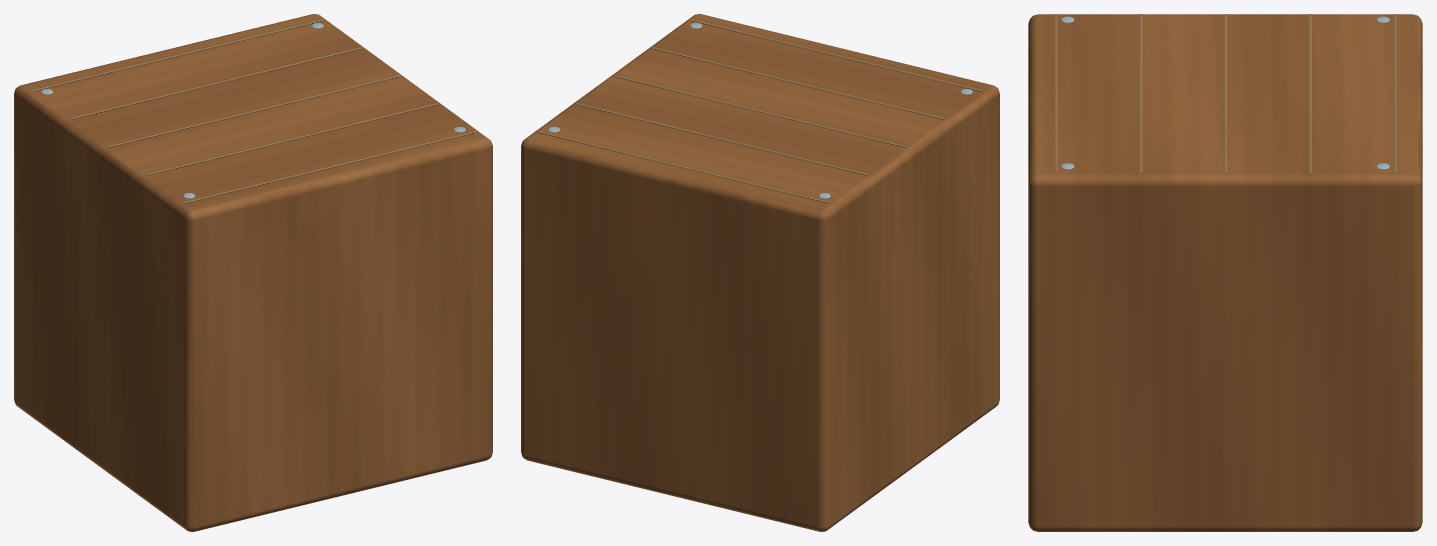
Rendered from prop_bridge.glb.
The picture shows the model from 3 angles, left to right: view 1: azimuth 30°, elevation 25°; view 2: azimuth 150°, elevation 25°; view 3: azimuth 270°, elevation 25°; orthographic projection. The views are drawn at different scales.
Parts seen in each view (by area): view 1: Plywood bridge, Board seam.001, Board seam.002, Board seam.003, Board seam.004, Board seam; view 2: Plywood bridge, Board seam.003, Board seam, Board seam.001, Board seam.002, Board seam.004; view 3: Plywood bridge, Board seam.002, Board seam, Board seam.001, Board seam.003, Board seam.004.
Part boxes in pixels (x1,y1,x2,y2): Plywood bridge: (14,14,492,531); Board seam.001: (68,46,362,120); Board seam.002: (106,74,400,148); Board seam.003: (144,102,438,175); Board seam.004: (183,130,476,203); Board seam: (30,18,323,92); Plywood bridge: (521,14,999,531); Board seam.003: (651,46,945,120); Board seam: (537,130,830,203); Board seam.001: (575,102,869,175); Board seam.002: (613,74,907,148); Board seam.004: (690,18,983,92); Plywood bridge: (1028,14,1422,531); Board seam.002: (1223,14,1227,173); Board seam: (1393,14,1396,173); Board seam.001: (1308,14,1311,173); Board seam.003: (1139,14,1142,173); Board seam.004: (1054,14,1057,173).
Size of the model in its own units: 0.02 by 0.0201 by 0.02.
3 materials, 1 textured.
